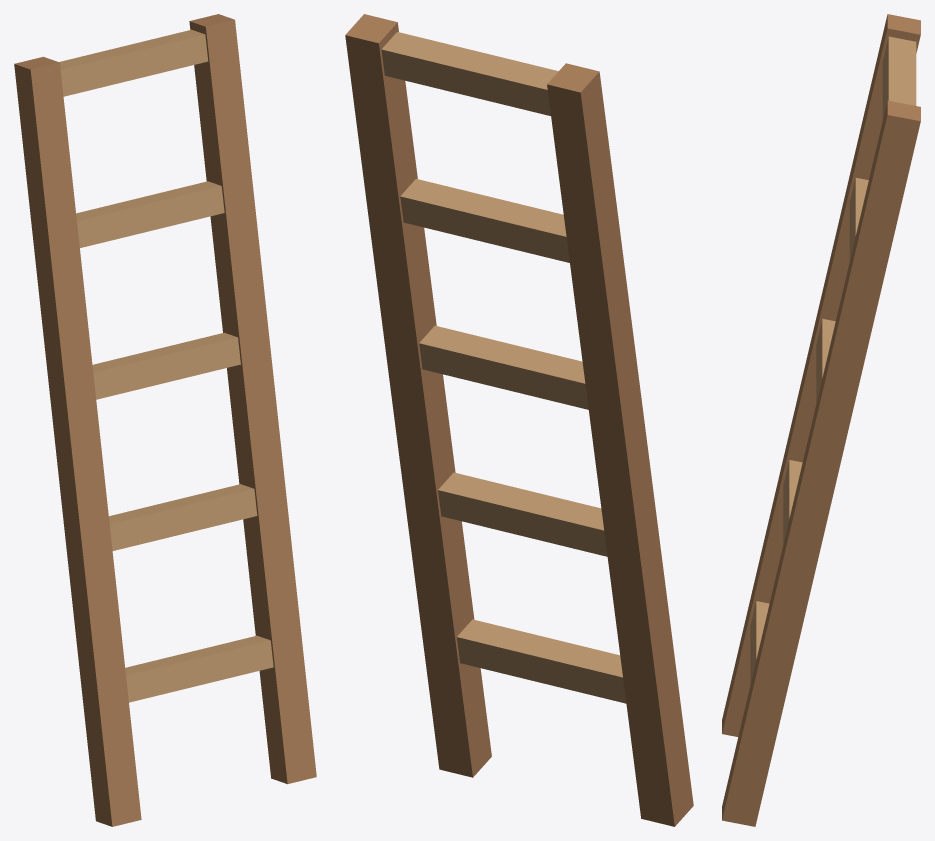
Rendered from deco_ladder.obj.
3 renders of one model, left to right at view 1: azimuth 30°, elevation 25°; view 2: azimuth 150°, elevation 25°; view 3: azimuth 270°, elevation 25°, orthographic. The views are drawn at different scales.
Parts seen in each view (by area): view 1: deco_ladder; view 2: deco_ladder; view 3: deco_ladder.
Part boxes in pixels (x1=…): deco_ladder: x1=14, y1=14, x2=316, y2=826; deco_ladder: x1=345, y1=14, x2=693, y2=826; deco_ladder: x1=722, y1=14, x2=920, y2=826.
Size of the model in its own units: 0.021 by 0.0691 by 0.0175.
Materials: 1 (1 with a texture image).
